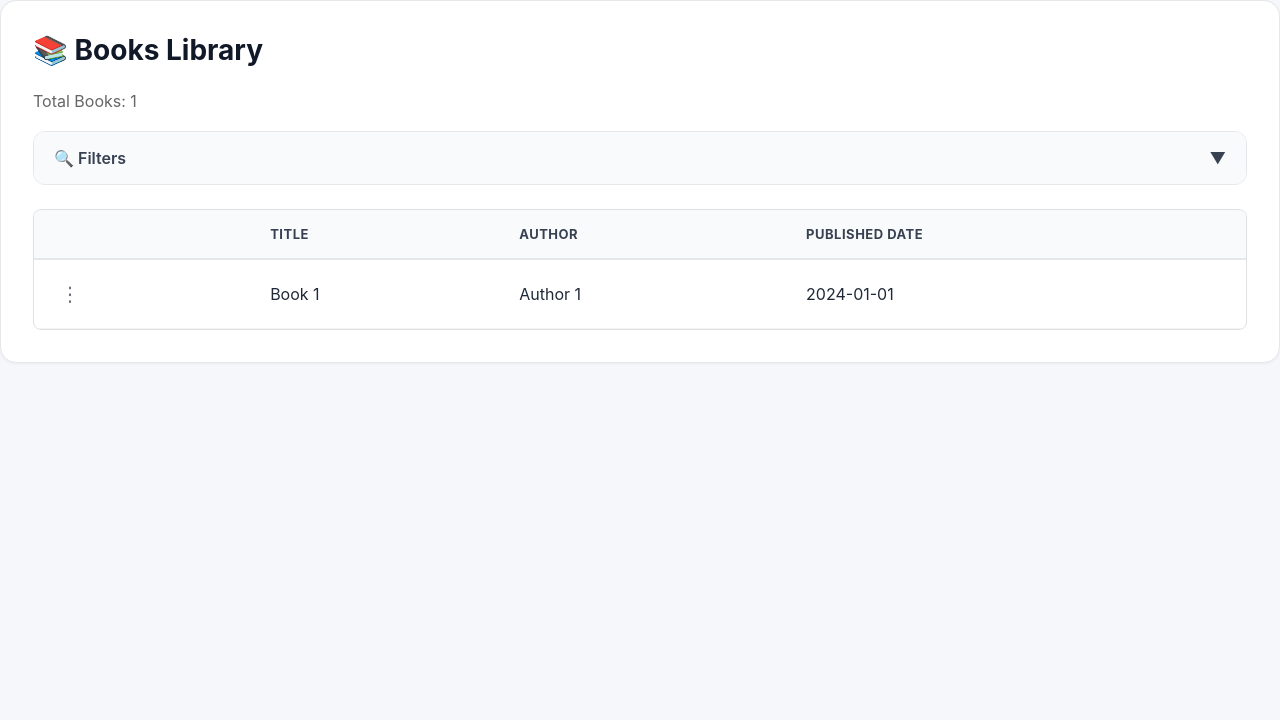
Test: BooksList Component › shows success notification when book is deleted
The image size is (1280, 720).
Click the button with test id "kebab-menu-1". click: x=70, y=294
box: 50,276 -> 90,312
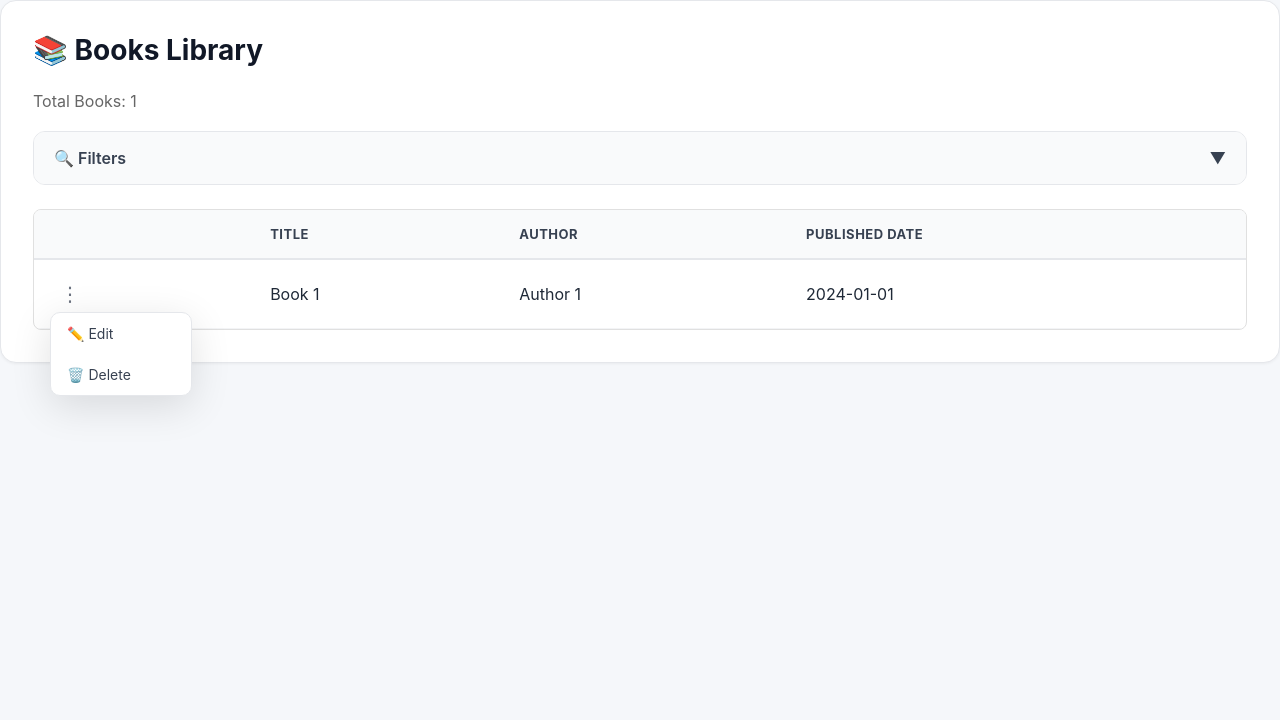
Click the text "🗑️ Delete". click: x=99, y=374
box: 67,366 -> 131,383
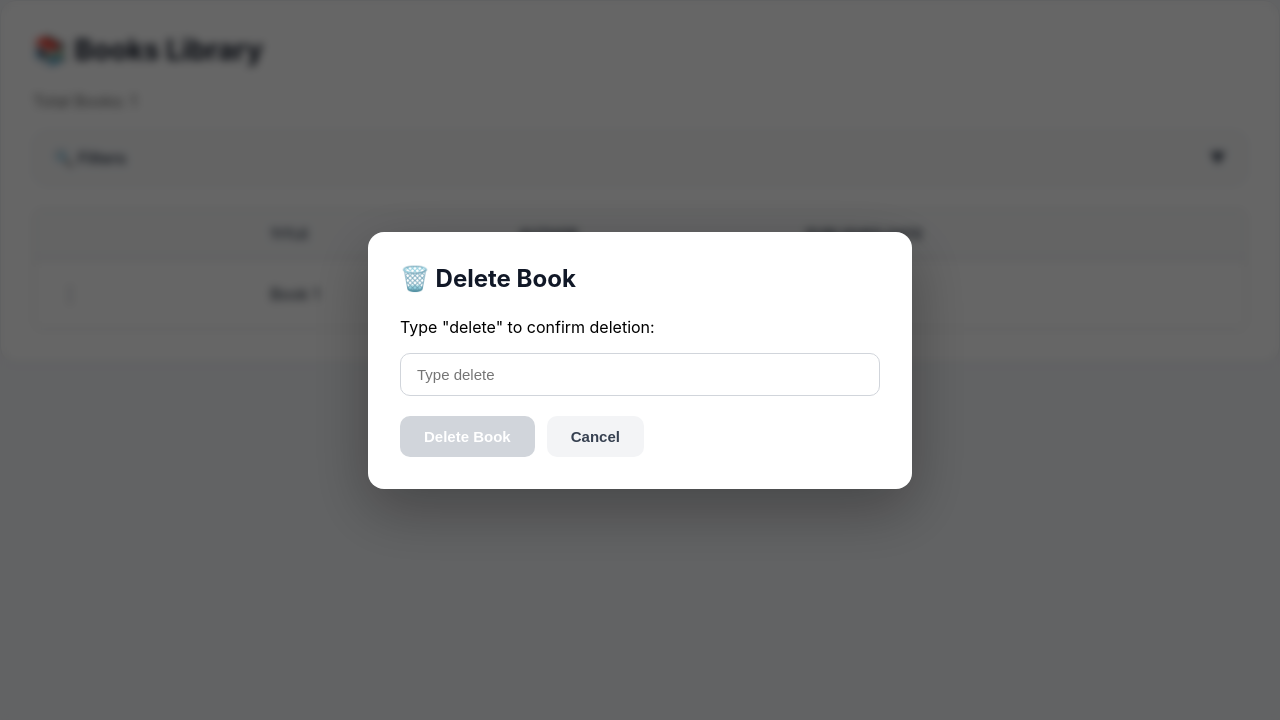
Type "delete" into the field with test id "delete-confirm-input". click: x=640, y=374
box: 400,352 -> 880,396
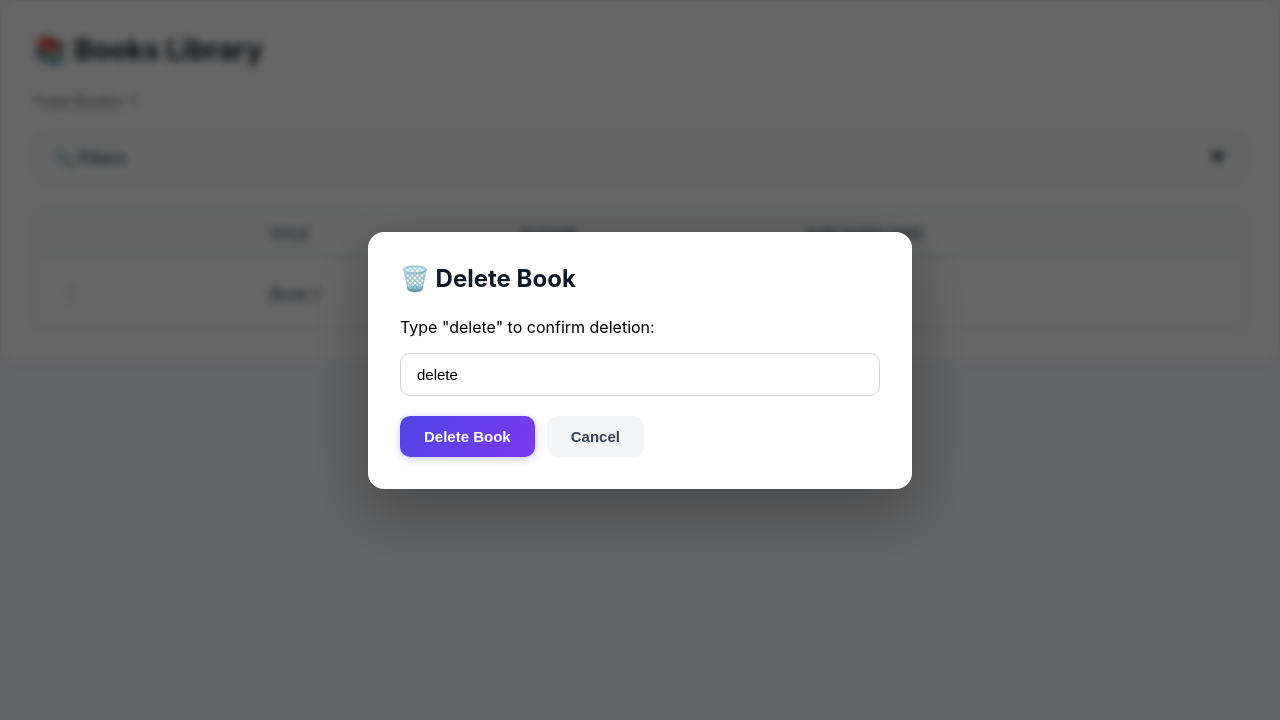
Click the button with test id "delete-confirm-button". click: x=467, y=436
box: 400,416 -> 535,456
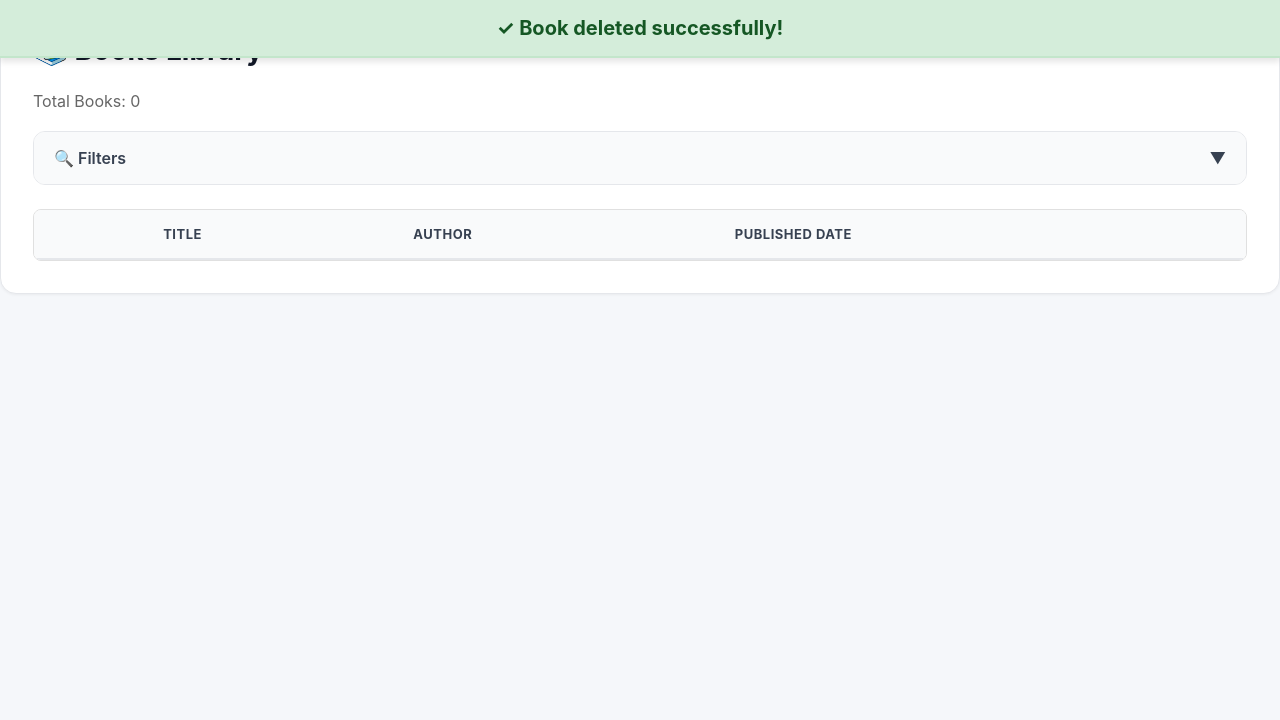
Result: the text "✓ Book deleted successfully!" is shown at 0,0 -> 1279,58
